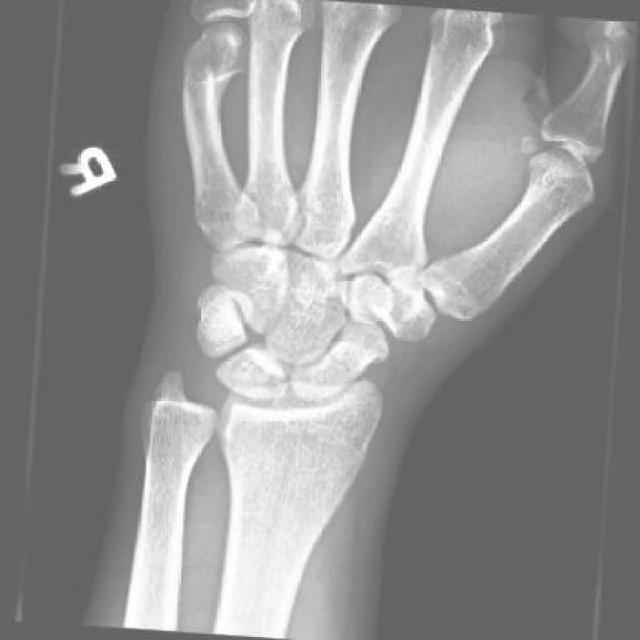Fracture: (326, 335, 377, 377)
